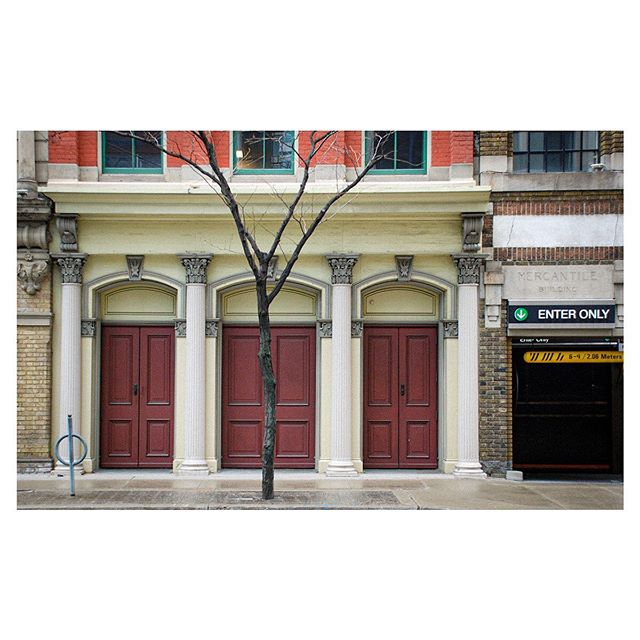building: (60, 118, 473, 478), (487, 137, 625, 475)
door: (208, 323, 320, 470), (362, 324, 441, 472), (100, 321, 173, 464)
tree: (140, 117, 382, 494)
